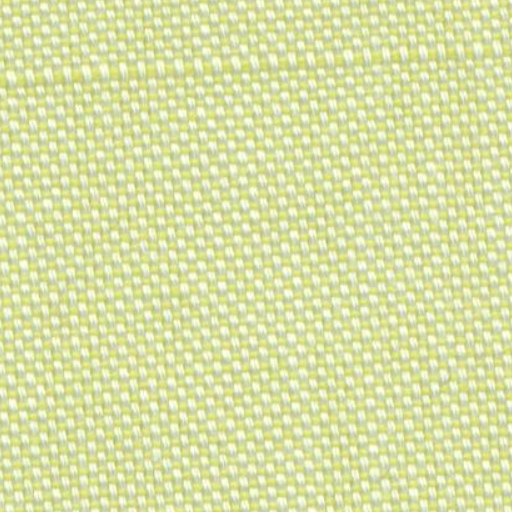TuoSha: (16, 30, 492, 86)
